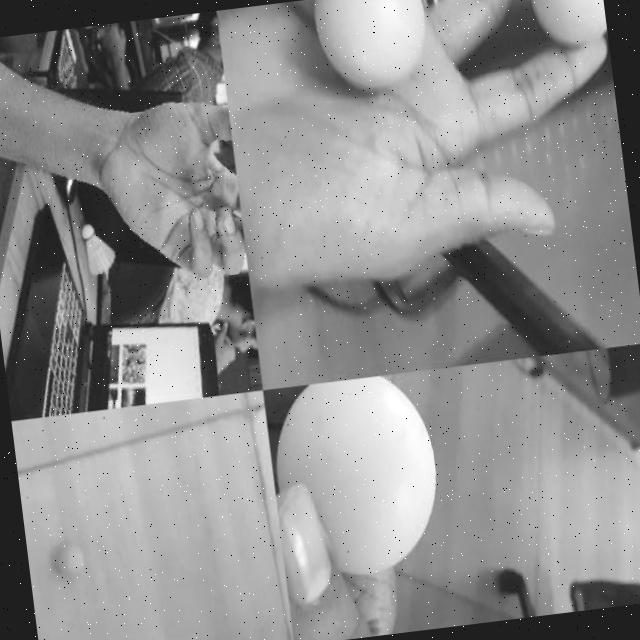ping-pong-ball: (268, 372, 450, 584), (309, 0, 431, 93), (528, 0, 608, 48), (58, 545, 84, 576)
